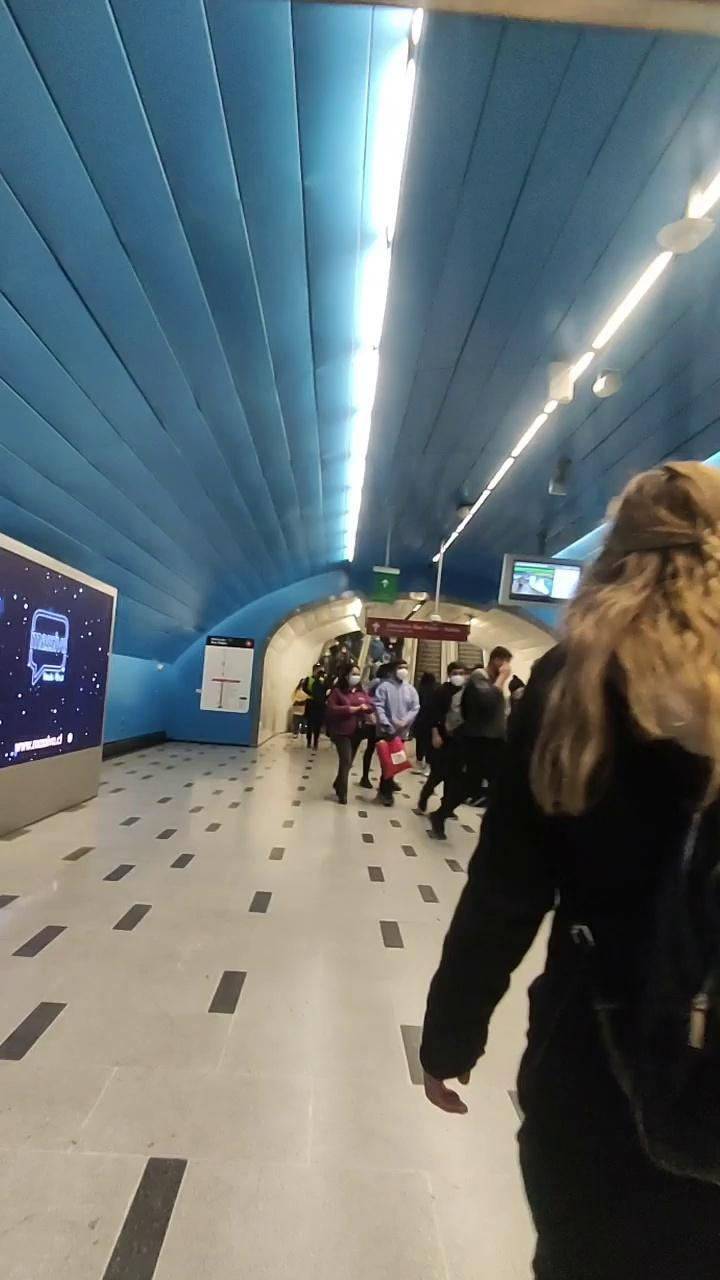up arrow: (367, 617, 383, 635)
